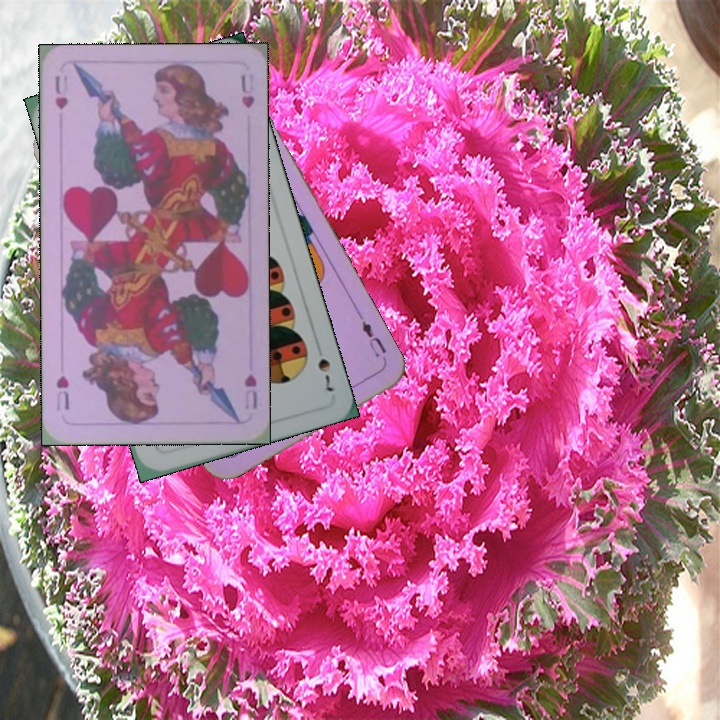EU: (355, 313, 390, 368)
HU: (240, 369, 260, 411), (51, 71, 70, 112)
S7: (313, 354, 336, 395)
